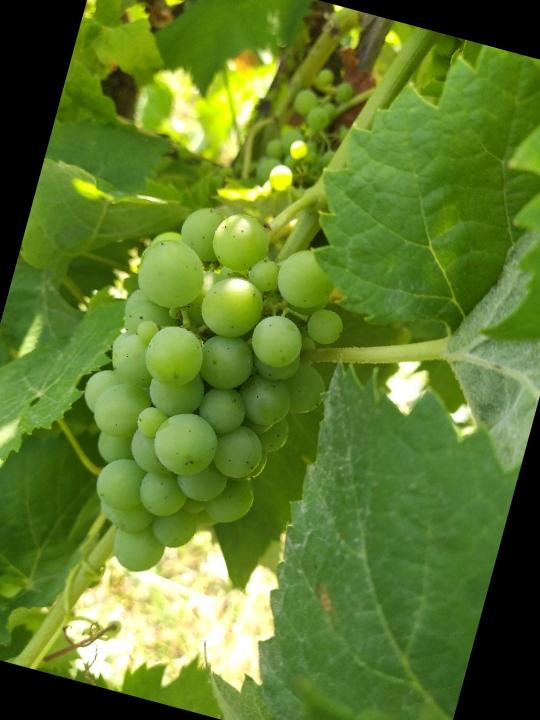grape: (42, 182, 364, 604)
